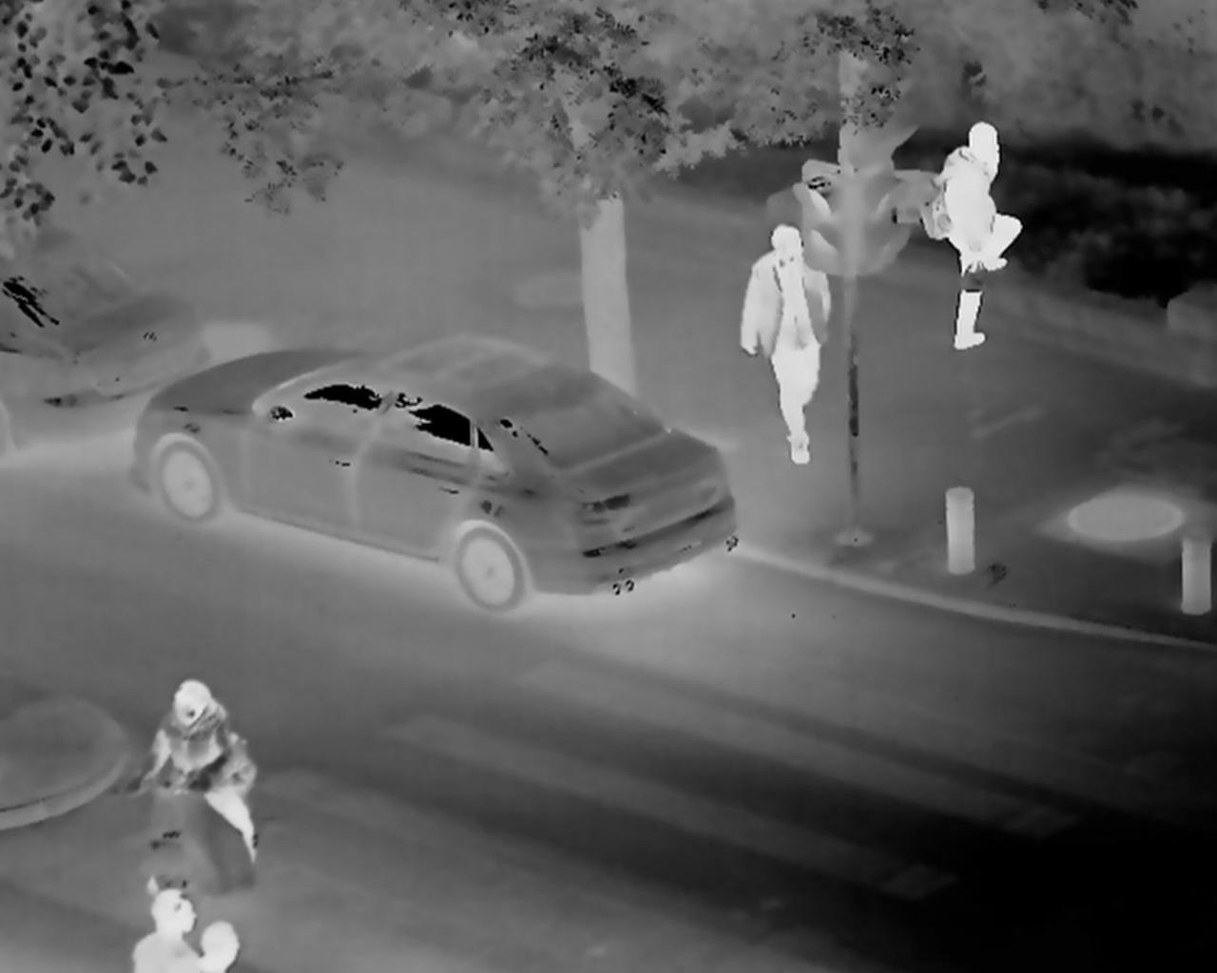person: (735, 216, 837, 465), (929, 119, 1026, 353), (145, 684, 259, 835), (119, 884, 203, 973), (187, 918, 243, 973)
